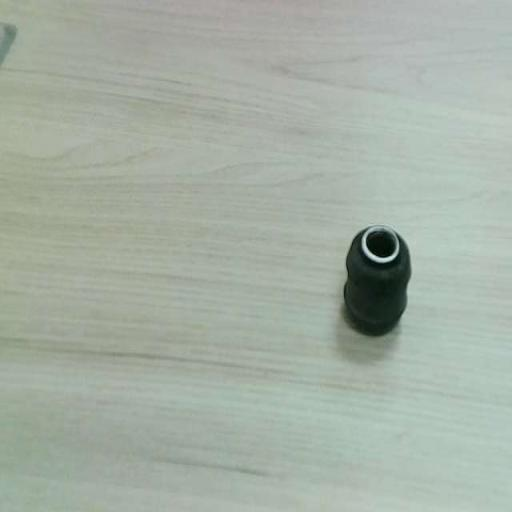peca: (343, 225, 411, 334)
